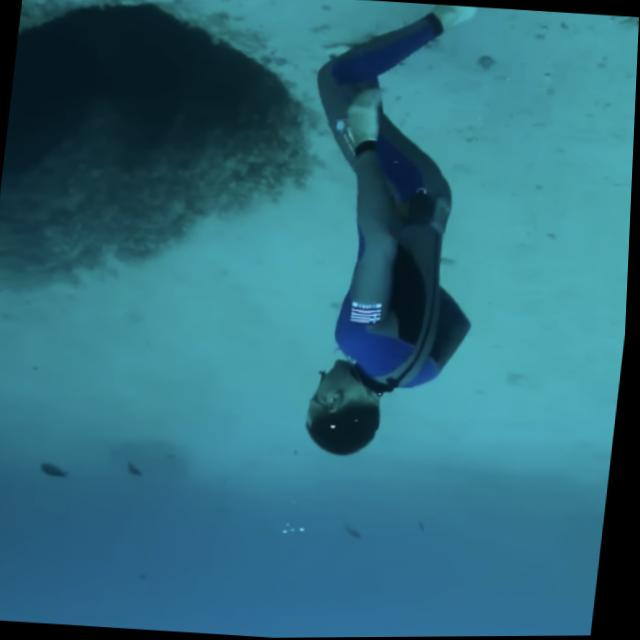human: (272, 0, 513, 471)
